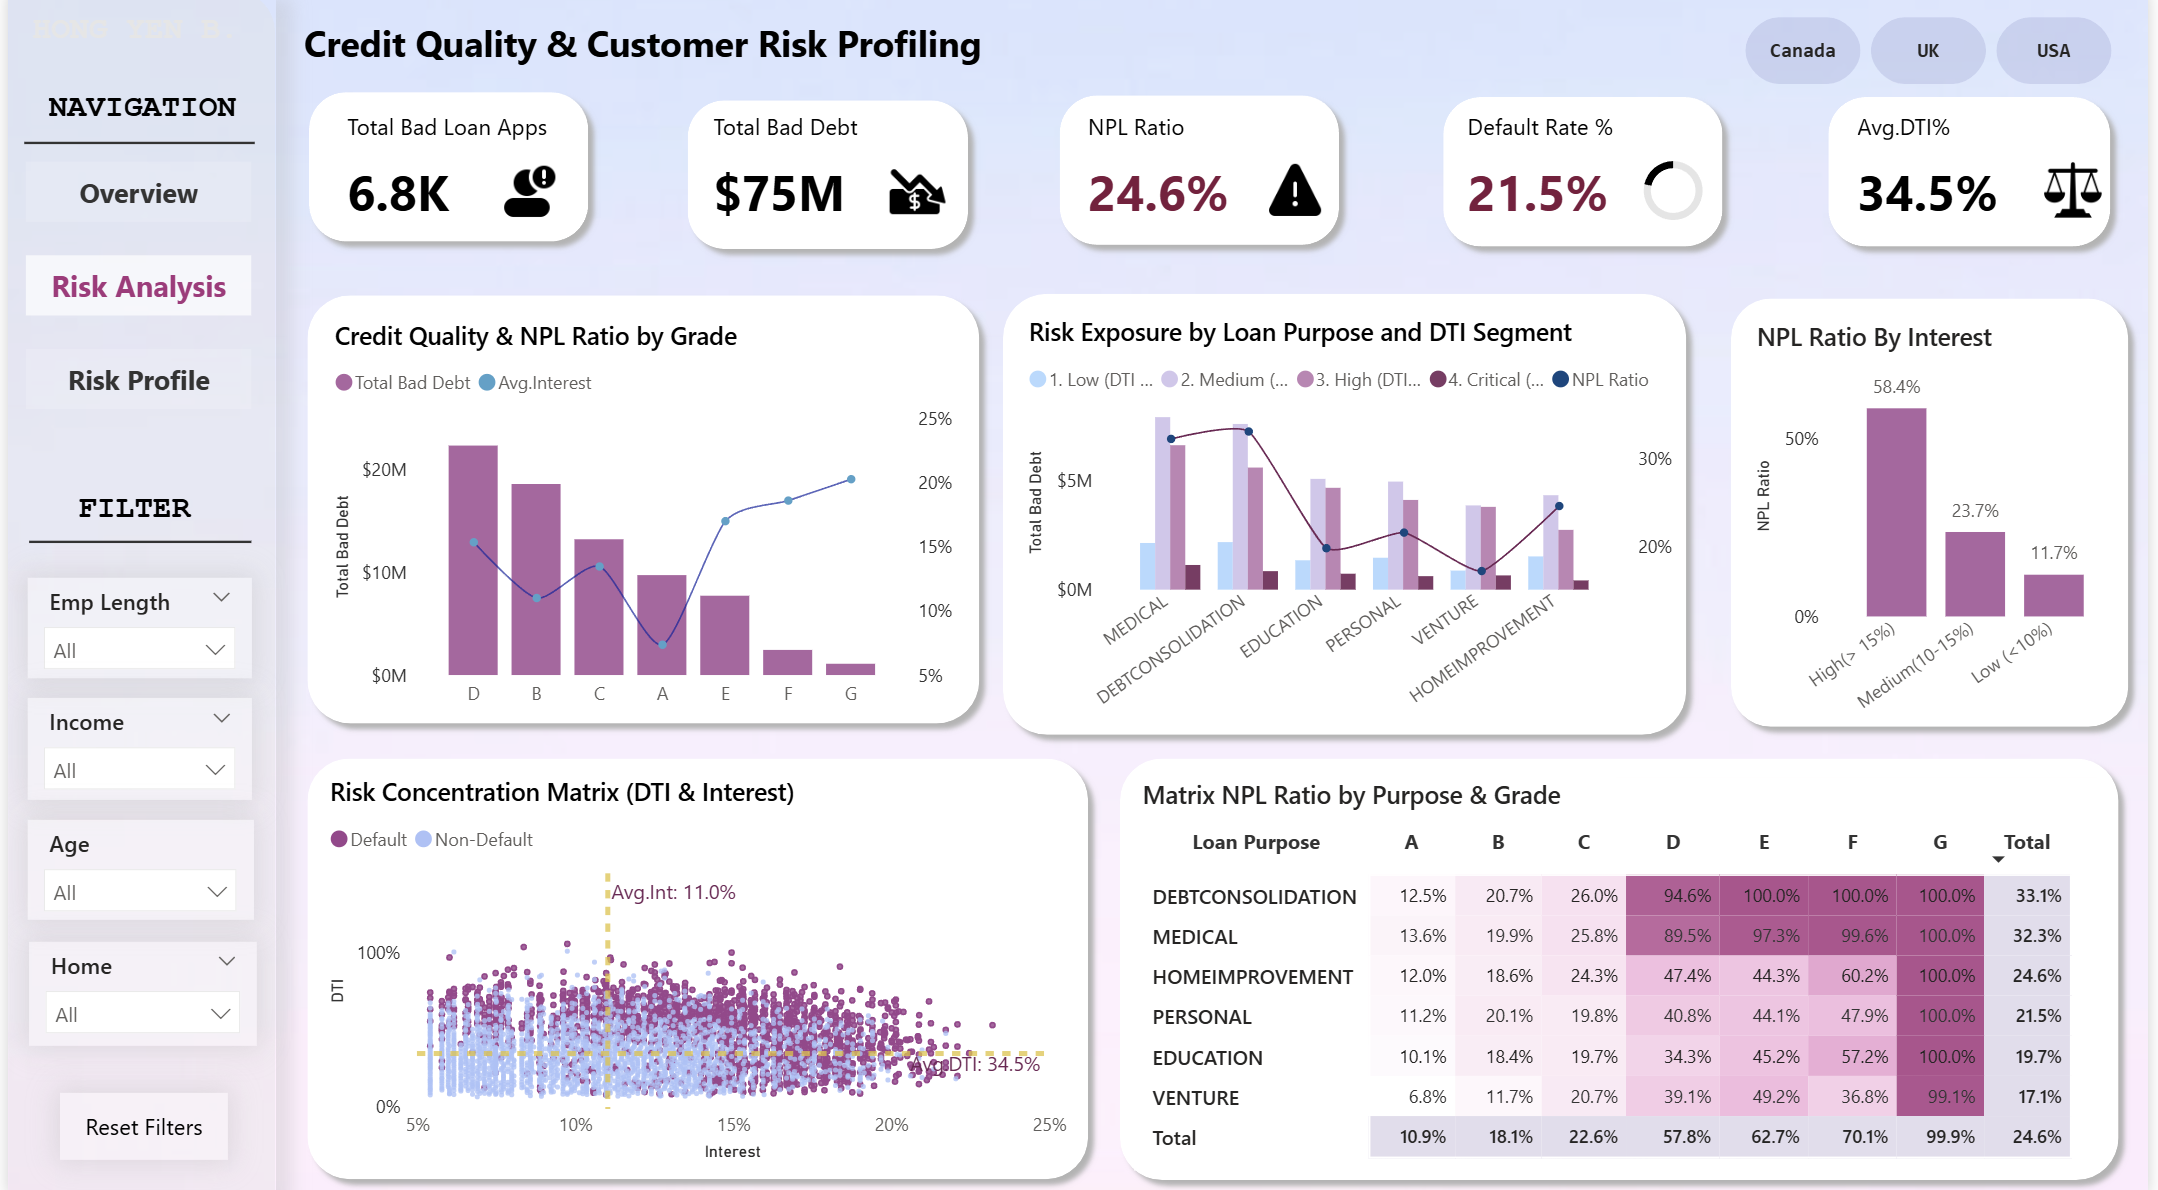

The dashboard page shown, as its layout file describes it:
{"tool":"powerbi","page":{"name":"Risk Analysis","canvas":[1280,720],"ordinal":1},"visuals":[{"type":"shape","box":[0,0,159.8,719.6],"z":0,"group":"g1"},{"type":"shape","box":[397.7,56.7,183.7,105],"z":0,"group":"g7"},{"type":"shape","box":[587.2,173,424.7,279.9],"z":0,"group":"g5"},{"type":"shape","box":[171,173.9,417.9,272.1],"z":0,"group":"g6"},{"type":"shape","box":[1022.3,175.4,253.6,272.1],"z":0,"group":"g4"},{"type":"shape","box":[170.8,451,482.9,267.7],"z":0,"group":"g3"},{"type":"shape","box":[656.9,451,613.2,268.2],"z":0,"group":"g2"},{"type":"slicer","fields":{"Values":["dim_customer.person_home_ownership"]},"box":[12.4,568.8,136.3,61.9],"z":500,"group":"g1"},{"type":"group","id":"g1","title":"report 2_navigation pane ","box":[0,0,161.3,719.6],"z":1000},{"type":"shape","box":[171.7,52,183,105.3],"z":1000,"group":"g7"},{"type":"lineClusteredColumnComboChart","title":"Risk Exposure by Loan Purpose and DTI Segment","fields":{"Category":["fact_loan_details.loan_intent"],"Series":["fact_loan_details.DTI Risk Segment"],"Y":["_Measures.Total Bad Debt"],"Y2":["_Measures.NPL Ratio"]},"box":[605.7,190.5,395.5,249.7],"z":1000,"group":"g5"},{"type":"lineStackedColumnComboChart","title":"Credit Quality & NPL Ratio by Grade","fields":{"Category":["credit_risk fact_loan_details.loan_grade"],"Y2":["Avg(fact_loan_details.loan_int)"],"Y":["_Measures.Total Bad Debt"]},"box":[190.4,192.4,380,245.9],"z":1000,"group":"g6"},{"type":"clusteredColumnChart","title":"NPL Ratio By Interest","fields":{"Y":["_Measures.NPL Ratio"],"Category":["fact_loan_details.Interest Rate Group"]},"box":[1040.4,195.4,226.4,247.8],"z":1000,"group":"g4"},{"type":"scatterChart","title":"Risk Concentration Matrix (DTI & Interest)","fields":{"X":["credit_risk fact_loan_details.loan_int"],"Y":["credit_risk fact_loan_details.debt_to_income_ratio"],"Series":["credit_risk fact_loan_details.Loan lable"]},"box":[187.5,465.6,450.9,239.1],"z":1000,"group":"g3"},{"type":"pivotTable","title":"Matrix NPL Ratio by Purpose & Grade","fields":{"Values":["_Measures.Loss Rate%"],"Rows":["fact_loan_details.loan_intent"],"Columns":["fact_loan_details.loan_grade"]},"box":[673.5,470.5,575.9,235.2],"z":1000,"group":"g2"},{"type":"actionButton","box":[30.9,658.5,100.5,39.8],"z":1000,"group":"g1"},{"type":"shape","box":[849.8,54.9,183,105.4],"z":2000,"group":"g7"},{"type":"slicer","fields":{"Values":["dim_customer.Emp Length Group"]},"box":[12,351,134,60],"z":2000,"group":"g1"},{"type":"group","id":"g2","title":"Report 2_chart 5","box":[656.9,451,613.2,268.2],"z":2000},{"type":"textbox","box":[9.7,7.8,143.8,36],"z":3000,"group":"g1"},{"type":"shape","box":[621.1,54,183,105.4],"z":3000,"group":"g7"},{"type":"shape","box":[1080.8,54.9,184.5,105.4],"z":4000,"group":"g7"},{"type":"pageNavigator","box":[10.7,102,135,150],"z":4000,"group":"g1"},{"type":"textbox","box":[19.4,54.4,141.9,37.9],"z":5000,"group":"g1"},{"type":"image","box":[1211.8,100.6,34,35],"z":5000,"group":"g7"},{"type":"image","box":[752.9,101,33,35.3],"z":6000,"group":"g7"},{"type":"textbox","box":[36.5,294.4,93.9,35.4],"z":6000,"group":"g1"},{"type":"shape","box":[9.7,74.8,138,32.1],"z":7000,"group":"g1"},{"type":"image","box":[526.3,98.8,34.2,42.1],"z":7000,"group":"g7"},{"type":"group","id":"g3","title":"Report 2- Chart 4","box":[170.8,451,482.9,267.7],"z":7000},{"type":"group","id":"g4","title":"Report 2 - Chart 3","box":[1022.3,175.4,253.6,272.1],"z":7062},{"type":"group","id":"g5","title":"Report 2- Chart 2","box":[587.2,173,424.7,279.9],"z":7125},{"type":"group","id":"g6","title":"Report 2- Chart 1","box":[171,173.9,417.9,272.1],"z":7250},{"type":"group","id":"g7","title":"Report 1-KPI","box":[171.7,52,1093.6,109.7],"z":7500},{"type":"advancedSlicerVisual","fields":{"Values":["dim_location.country"]},"box":[1034.2,10.3,230.1,50],"z":8000},{"type":"donutChart","fields":{"Category":["fact_loan_details.Loan label"],"Y":["CountNonNull(fact_loan_details.loan_ID)"]},"box":[965.7,94.2,59.9,52],"z":8000,"group":"g7"},{"type":"shape","box":[12.6,312.5,133.1,33],"z":8000,"group":"g1"},{"type":"image","box":[293.9,101,36.4,36.4],"z":9000,"group":"g7"},{"type":"slicer","fields":{"Values":["dim_customer.Income Segment"]},"box":[11.3,422.4,134,60.8],"z":9000,"group":"g1"},{"type":"textbox","box":[172,11.4,428.2,47.8],"z":9001},{"type":"cardVisual","fields":{"Data":["_Measures.Total Bad Loan Apps","_Measures.Total Bad Debt","_Measures.Loss Rate%","_Measures.Default Rate %","Avg(fact_loan_details.debt_to_income_ratio)"]},"box":[176.8,57.8,1088.4,95.2],"z":10000,"group":"g7"},{"type":"slicer","fields":{"Values":["dim_customer.Age Group"]},"box":[11.3,495.6,135.2,59.7],"z":10000,"group":"g1"}]}

Visuals, with their boxes in screenshot pixels (x1, y1, x2, y2), scaled from the page's 1280x720 canvas onto the 2158x1190 screenshot:
shape: left=0, top=0, right=269, bottom=1189
shape: left=670, top=94, right=980, bottom=267
shape: left=990, top=286, right=1706, bottom=749
shape: left=288, top=287, right=993, bottom=737
shape: left=1724, top=290, right=2151, bottom=740
shape: left=288, top=745, right=1102, bottom=1188
shape: left=1107, top=745, right=2141, bottom=1189
slicer - dim_customer.person_home_ownership: left=21, top=940, right=251, bottom=1042
"report 2_navigation pane " group: left=0, top=0, right=272, bottom=1189
shape: left=289, top=86, right=598, bottom=260
"Risk Exposure by Loan Purpose and DTI Segment" lineClusteredColumnComboChart: left=1021, top=315, right=1688, bottom=728
"Credit Quality & NPL Ratio by Grade" lineStackedColumnComboChart: left=321, top=318, right=962, bottom=724
"NPL Ratio By Interest" clusteredColumnChart: left=1754, top=323, right=2136, bottom=733
"Risk Concentration Matrix (DTI & Interest)" scatterChart: left=316, top=770, right=1076, bottom=1165
"Matrix NPL Ratio by Purpose & Grade" pivotTable: left=1135, top=778, right=2106, bottom=1166
actionButton: left=52, top=1088, right=222, bottom=1154
shape: left=1433, top=91, right=1741, bottom=265
slicer - dim_customer.Emp Length Group: left=20, top=580, right=246, bottom=679
"Report 2_chart 5" group: left=1107, top=745, right=2141, bottom=1189
textbox: left=16, top=13, right=259, bottom=72
shape: left=1047, top=89, right=1356, bottom=263
shape: left=1822, top=91, right=2133, bottom=265
pageNavigator: left=18, top=169, right=246, bottom=416
textbox: left=33, top=90, right=272, bottom=153
image: left=2043, top=166, right=2100, bottom=224
image: left=1269, top=167, right=1325, bottom=225
textbox: left=62, top=487, right=220, bottom=545
shape: left=16, top=124, right=249, bottom=177
image: left=887, top=163, right=945, bottom=233
"Report 2- Chart 4" group: left=288, top=745, right=1102, bottom=1188
"Report 2 - Chart 3" group: left=1724, top=290, right=2151, bottom=740
"Report 2- Chart 2" group: left=990, top=286, right=1706, bottom=749
"Report 2- Chart 1" group: left=288, top=287, right=993, bottom=737
"Report 1-KPI" group: left=289, top=86, right=2133, bottom=267
advancedSlicerVisual - dim_location.country: left=1744, top=17, right=2132, bottom=100
donutChart - fact_loan_details.Loan label x CountNonNull(fact_loan_details.loan_ID): left=1628, top=156, right=1729, bottom=242
shape: left=21, top=516, right=246, bottom=571
image: left=495, top=167, right=557, bottom=227
slicer - dim_customer.Income Segment: left=19, top=698, right=245, bottom=799
textbox: left=290, top=19, right=1012, bottom=98
cardVisual - _Measures.Total Bad Loan Apps x _Measures.Total Bad Debt: left=298, top=96, right=2133, bottom=253
slicer - dim_customer.Age Group: left=19, top=819, right=247, bottom=918
